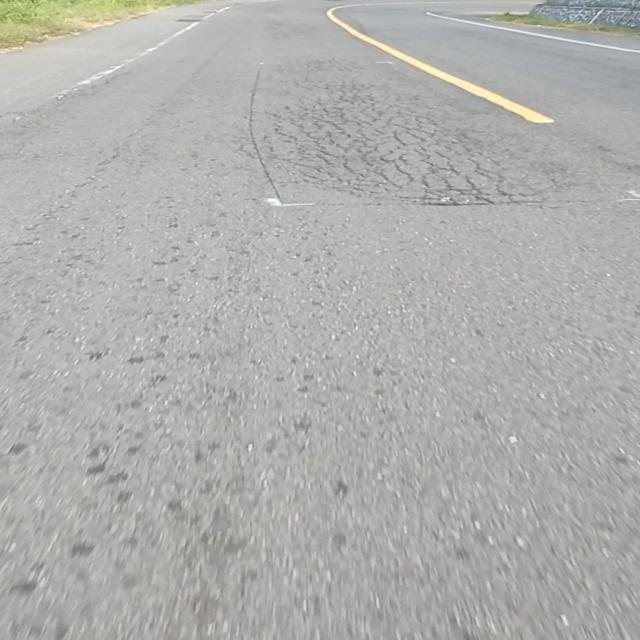Retak Buaya: (268, 53, 538, 212)
